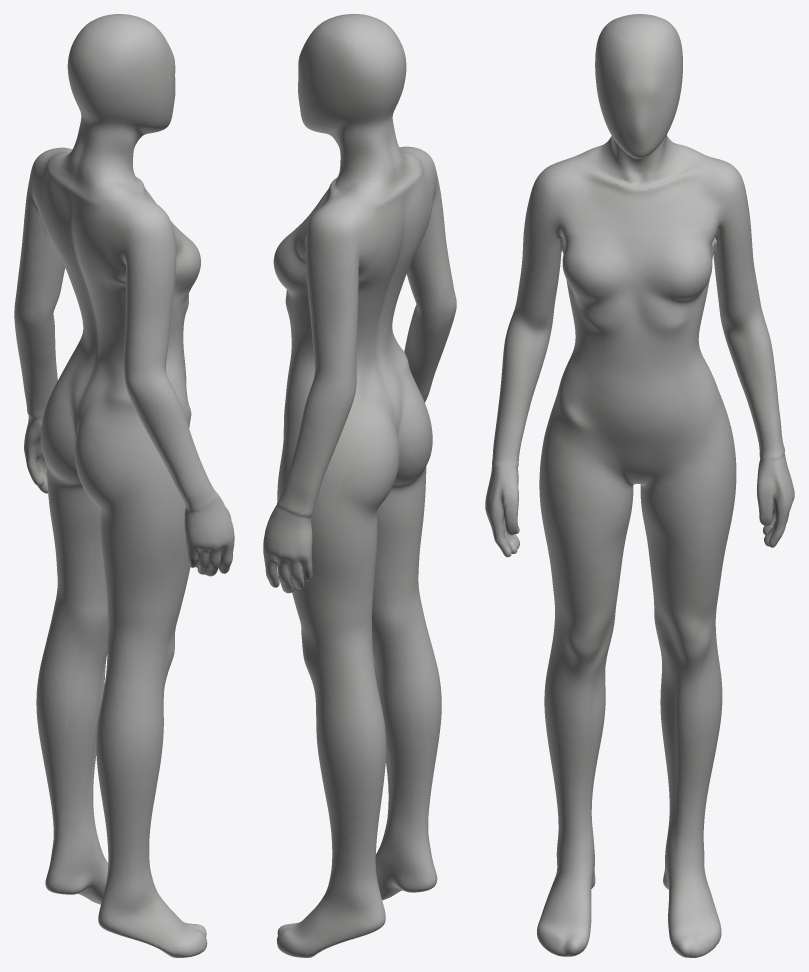
Rendered from female-slim.glb.
The picture shows the model from 3 angles, left to right: view 1: azimuth 30°, elevation 25°; view 2: azimuth 150°, elevation 25°; view 3: azimuth 270°, elevation 25°; orthographic projection.
Parts seen in each view (by area): view 1: tripo_node_f8a69dbf-24aa-4576-8707-510449028823; view 2: tripo_node_f8a69dbf-24aa-4576-8707-510449028823; view 3: tripo_node_f8a69dbf-24aa-4576-8707-510449028823.
Part boxes in pixels (x1=…): tripo_node_f8a69dbf-24aa-4576-8707-510449028823: x1=14, y1=14, x2=234, y2=957; tripo_node_f8a69dbf-24aa-4576-8707-510449028823: x1=263, y1=14, x2=456, y2=957; tripo_node_f8a69dbf-24aa-4576-8707-510449028823: x1=485, y1=14, x2=794, y2=957.
Size of the model in its own units: 0.1287 by 1 by 0.306.
1 material, 1 textured.
